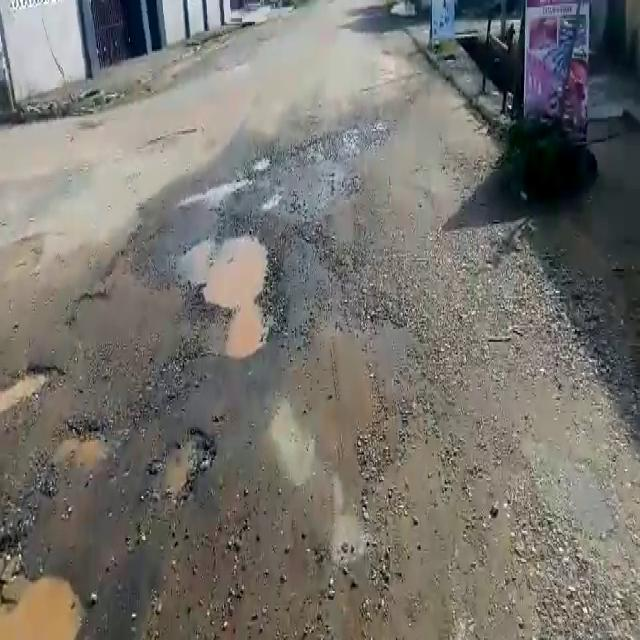Pothole: (172, 222, 272, 357), (0, 572, 89, 639), (153, 422, 215, 506), (1, 359, 64, 419)
